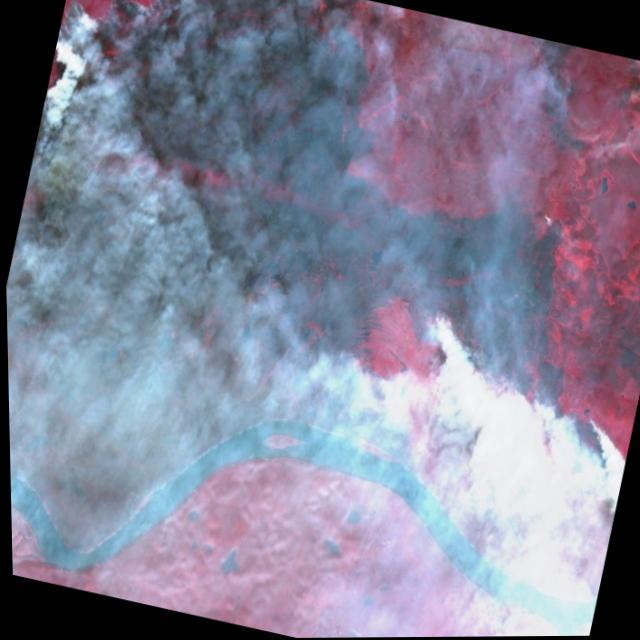fire: (391, 303, 640, 517), (50, 0, 227, 105)
